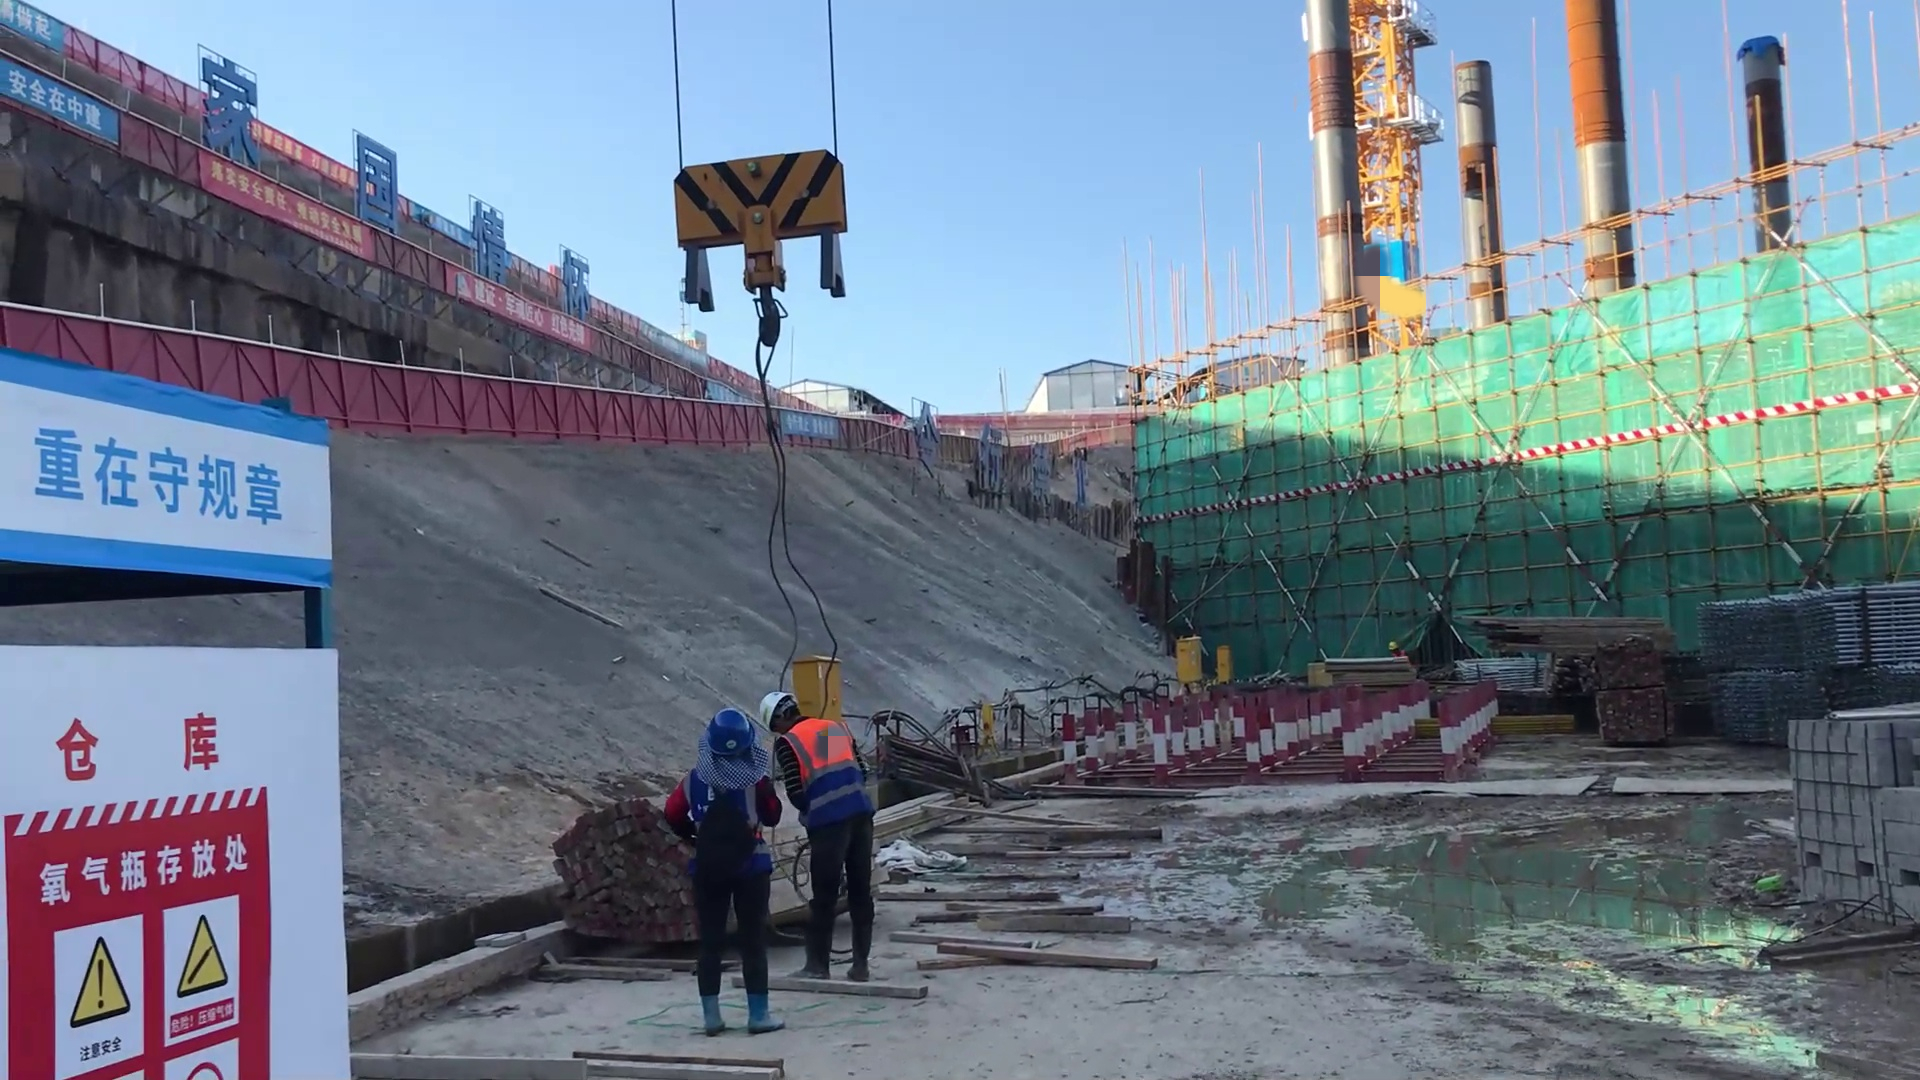brick: (1773, 690, 1920, 938)
ebox: (794, 661, 840, 718), (1171, 626, 1206, 692), (1213, 646, 1237, 686)
fence: (319, 349, 649, 441), (643, 390, 788, 445)
helmet: (762, 686, 811, 746), (704, 704, 742, 756), (1387, 640, 1396, 651)
hook: (671, 138, 847, 318)
person: (669, 707, 784, 1038), (761, 686, 877, 984), (1380, 636, 1414, 665)
scaffold: (1686, 597, 1920, 682)
slogan: (25, 693, 296, 1080), (19, 439, 299, 532), (191, 150, 377, 279), (1, 66, 137, 153)
vest: (779, 721, 854, 792)
wood: (534, 794, 678, 956), (1462, 613, 1666, 671)
